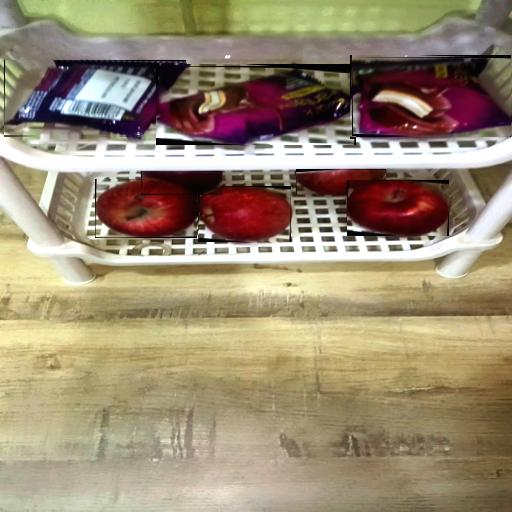Apple: (96, 179, 197, 237), (347, 181, 449, 235), (199, 187, 291, 241), (296, 169, 385, 195), (141, 171, 222, 195)
Choco Pie: (156, 69, 356, 143), (4, 60, 186, 136), (352, 58, 511, 136)
